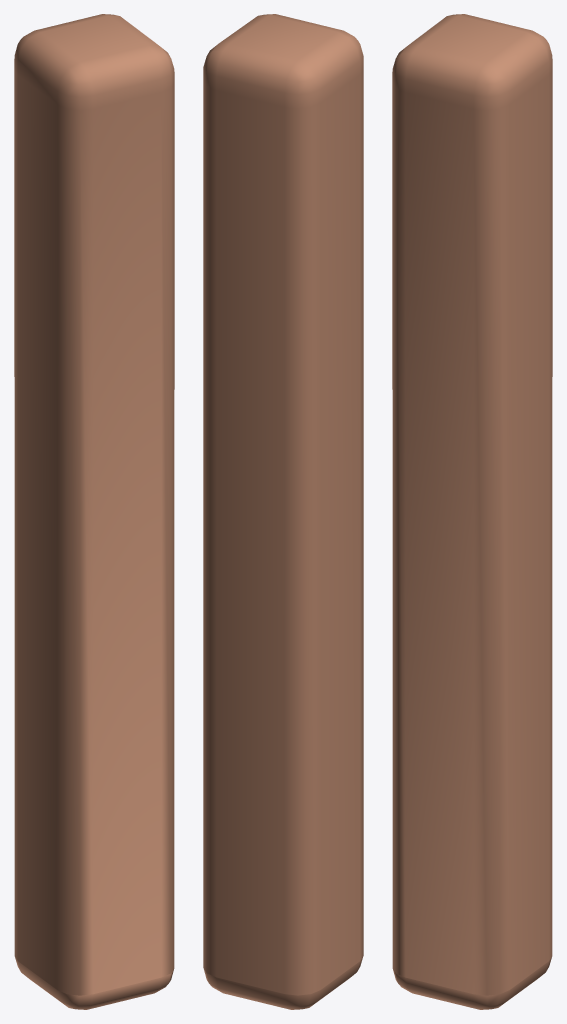
Rendered from Bed_Leg.fbx.
3 views of the same model, side by side, from view 1: azimuth 30°, elevation 25°; view 2: azimuth 150°, elevation 25°; view 3: azimuth 330°, elevation 25° (orthographic).
Visible parts, largest first — view 1: Bed_Leg_1; view 2: Bed_Leg_1; view 3: Bed_Leg_1.
Part boxes in pixels (x1,y1,x2,y2): Bed_Leg_1: (14,14,174,1009); Bed_Leg_1: (203,14,363,1009); Bed_Leg_1: (392,14,552,1009).
Bounding box in the file's own units: 4.29 × 34.22 × 4.31.
